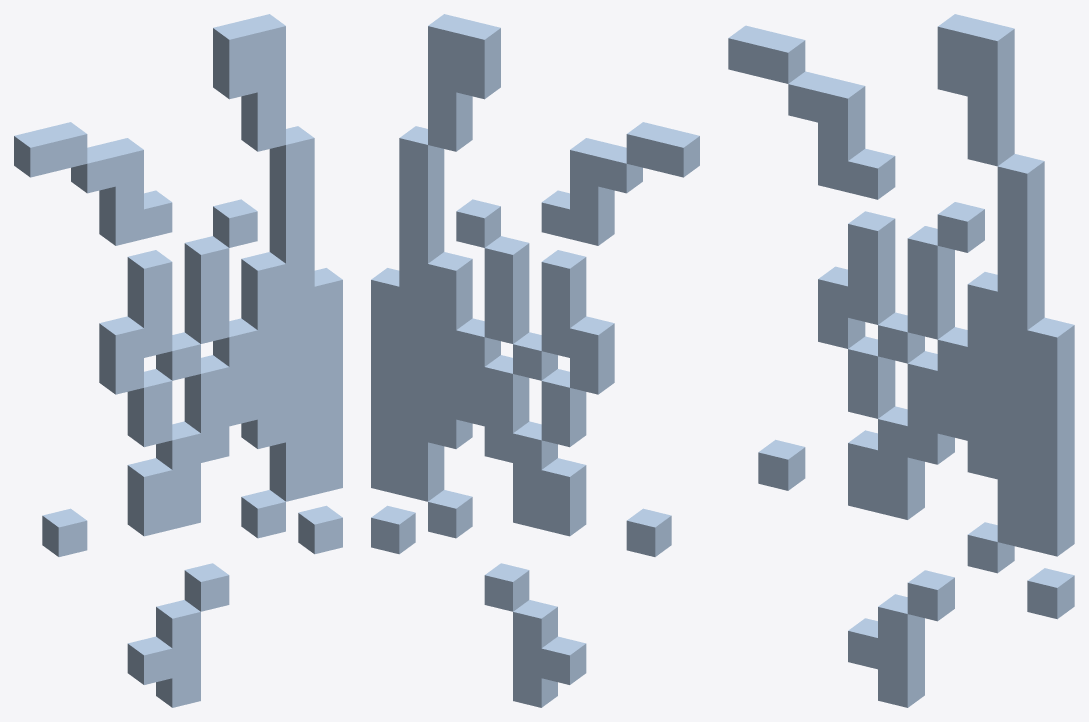
The model's file is Fight_109_2_12_fx.obj.
3 renders of one model, left to right at view 1: azimuth 30°, elevation 25°; view 2: azimuth 150°, elevation 25°; view 3: azimuth 330°, elevation 25°, orthographic. The views are drawn at different scales.
Bounding box in the file's own units: 1.1 × 2.2 × 0.1.
1 material, 1 textured.
